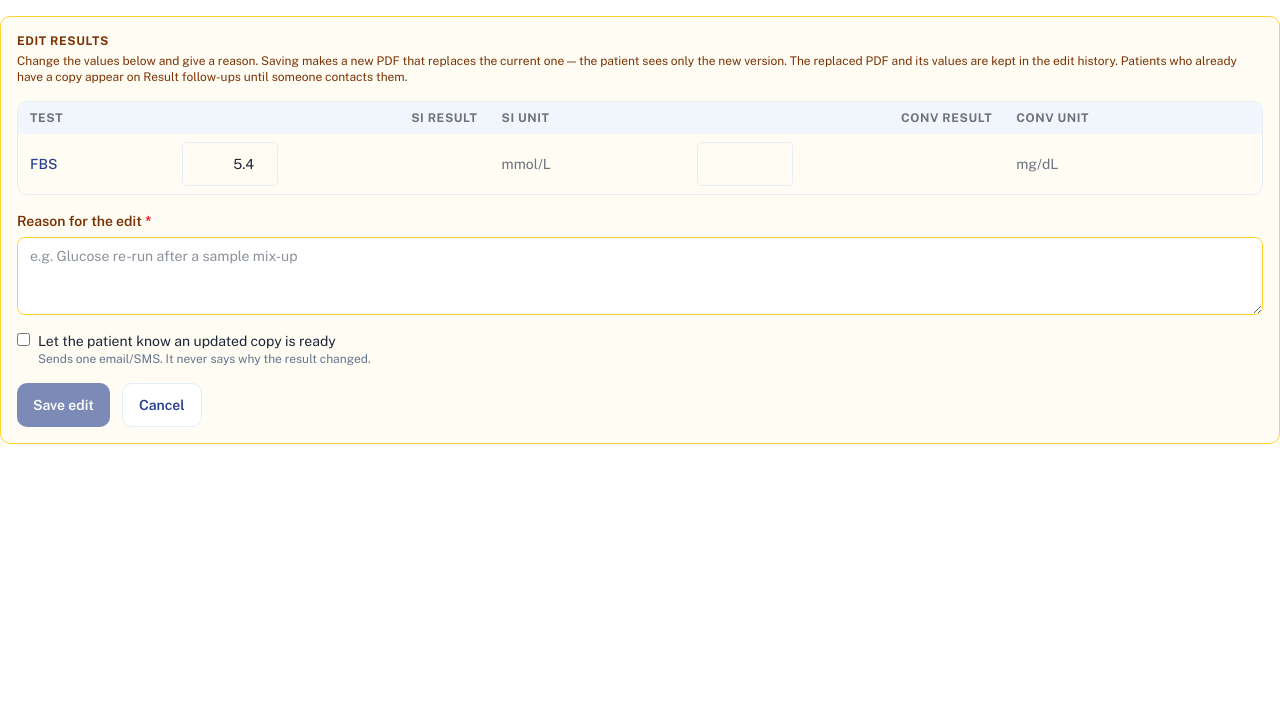
Scenario: consolidated report edit › a refused save keeps the form and shows why
Type "Glucose re-run" into the text box labelled "Reason for the edit *" at (640, 276), box [17,237,1263,315]
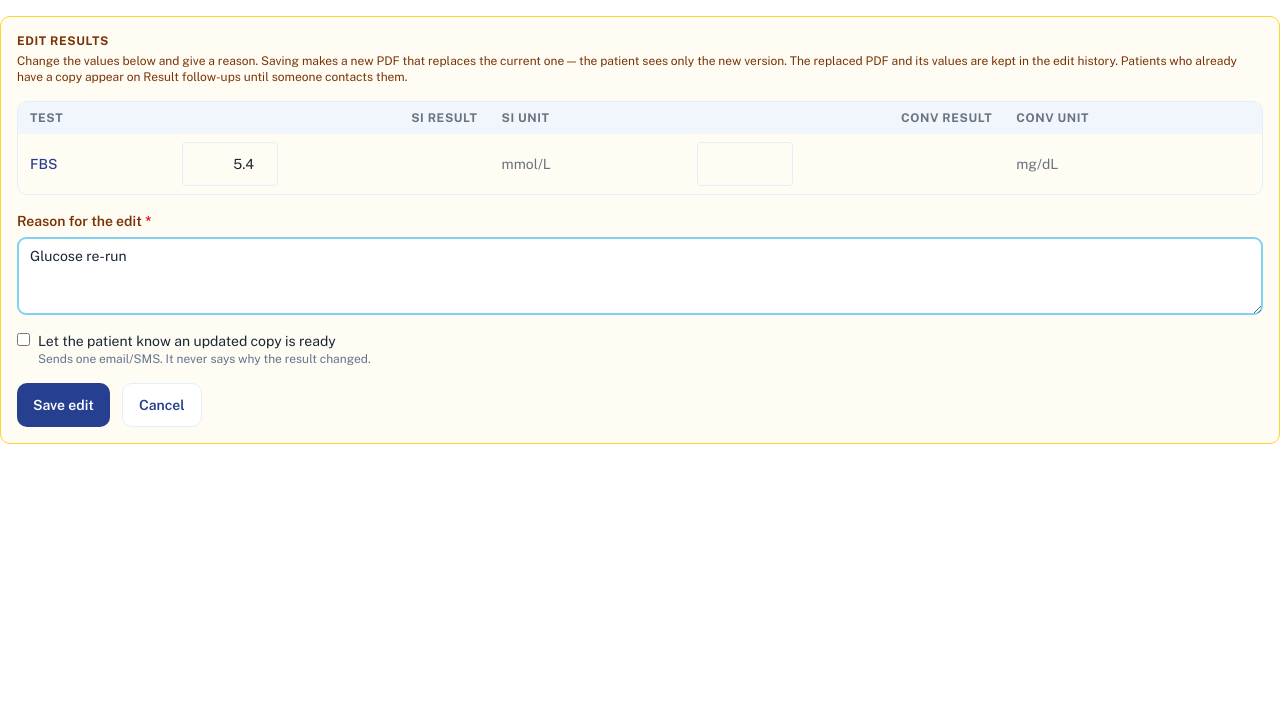
Click the button "Save edit" at (63, 405), box [17,383,110,427]
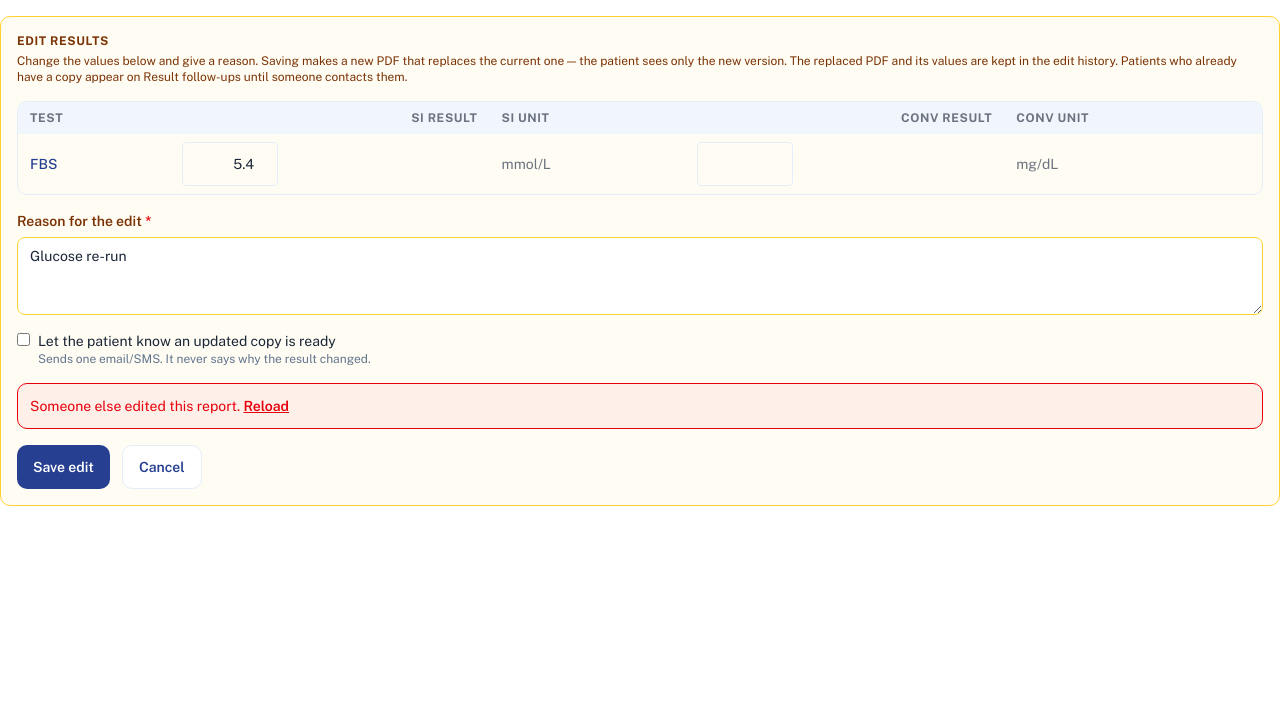
Now the message shows "Someone else edited this report.", box [30,398,240,414]
Now the button "Reload" is shown, box [243,396,289,416]
